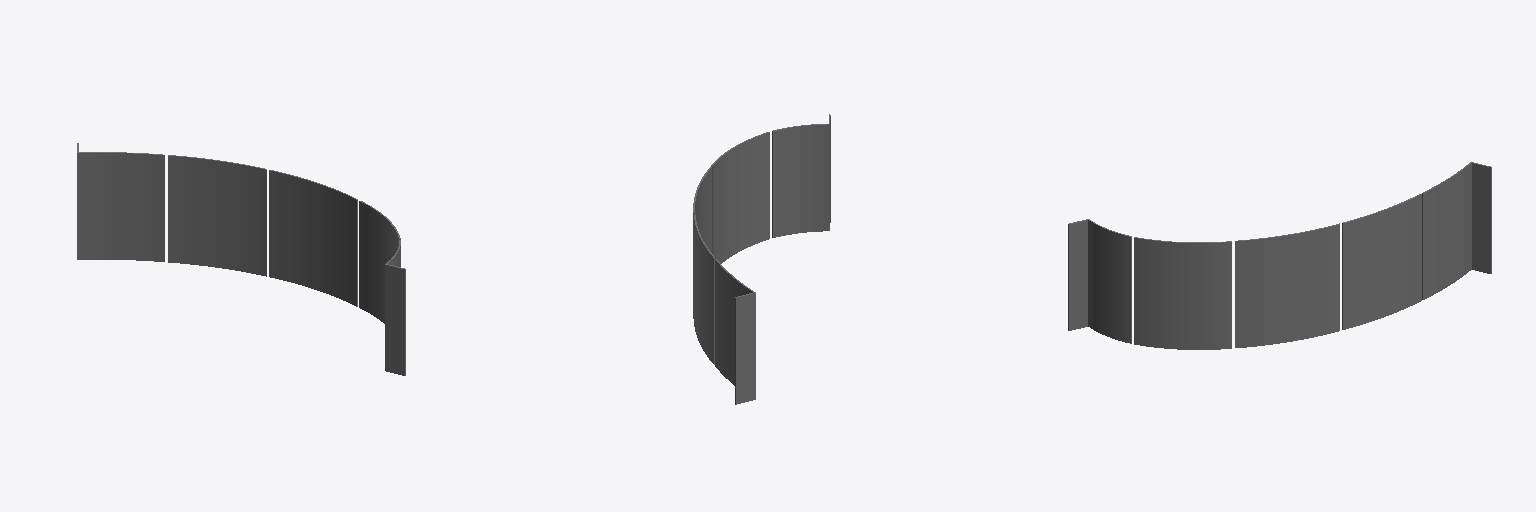
Rendered from SH设计幼儿园Ⅱ460245.obj.
The picture shows the model from 3 angles: view 1: azimuth 30°, elevation 25°; view 2: azimuth 150°, elevation 25°; view 3: azimuth 270°, elevation 25°; orthographic projection.
Parts seen in each view (by area): view 1: SH设计幼儿园Ⅱ460245; view 2: SH设计幼儿园Ⅱ460245; view 3: SH设计幼儿园Ⅱ460245.
Part boxes in pixels (x1,y1,x2,y2): SH设计幼儿园Ⅱ460245: (77, 143, 405, 375); SH设计幼儿园Ⅱ460245: (693, 114, 830, 404); SH设计幼儿园Ⅱ460245: (1068, 162, 1491, 349).
Bounding box in the file's own units: 2.41 × 1.48 × 5.3.